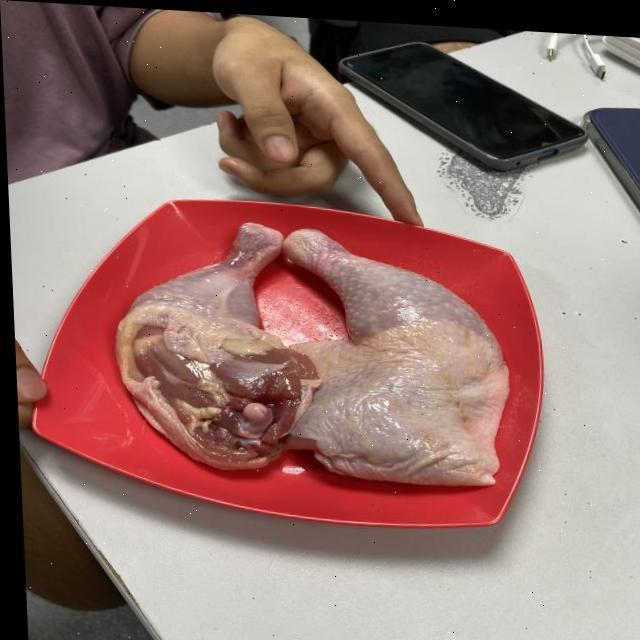quater: (275, 227, 501, 479), (108, 209, 302, 470)
